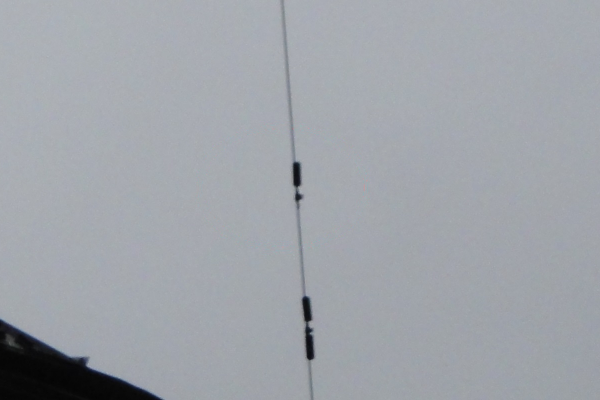damper: (299, 292, 317, 364)
damper_defect: (287, 159, 306, 214)
